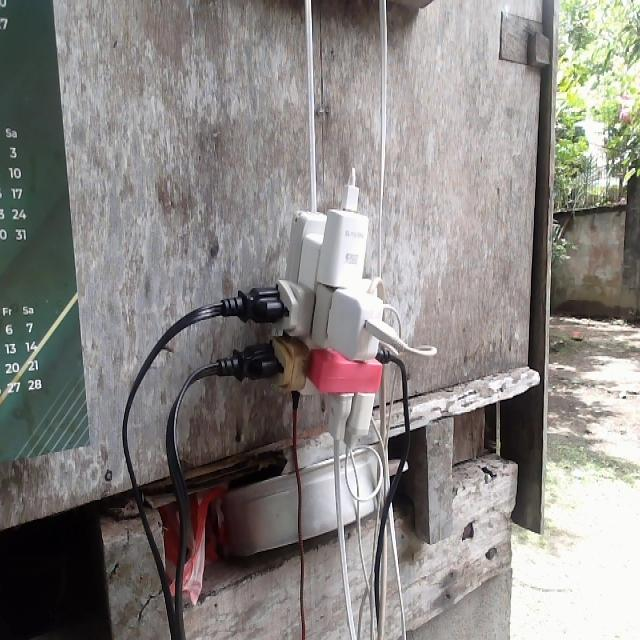-: (250, 182, 403, 442)
